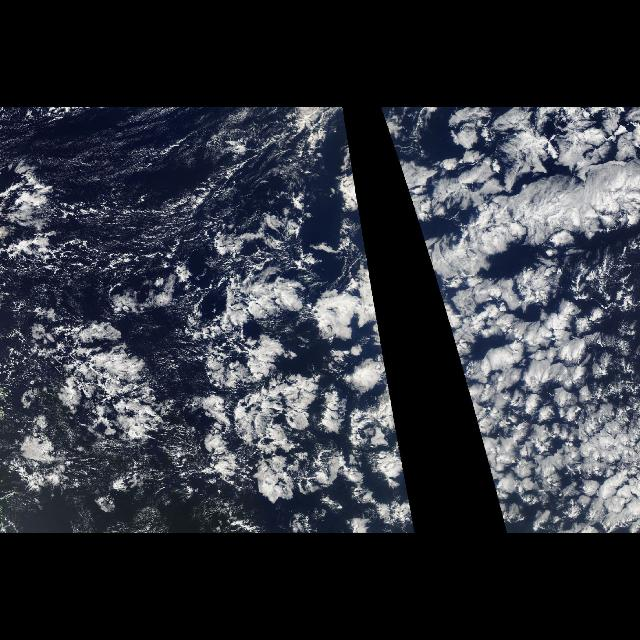Flower: (13, 243, 414, 533), (429, 261, 639, 533)
Gravel: (1, 107, 245, 285)
